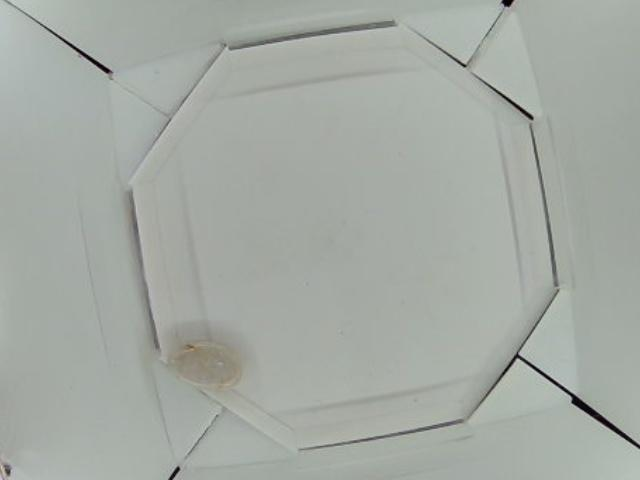Pebble: (168, 340, 240, 400)
